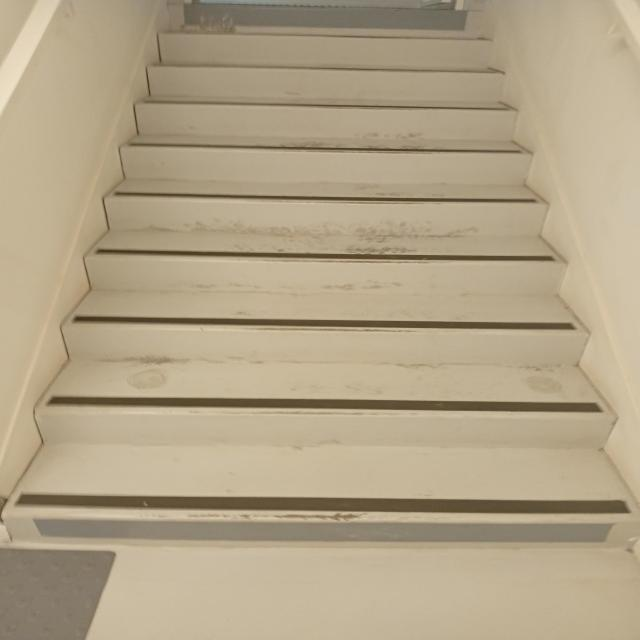Stairs: (9, 211, 636, 585)
